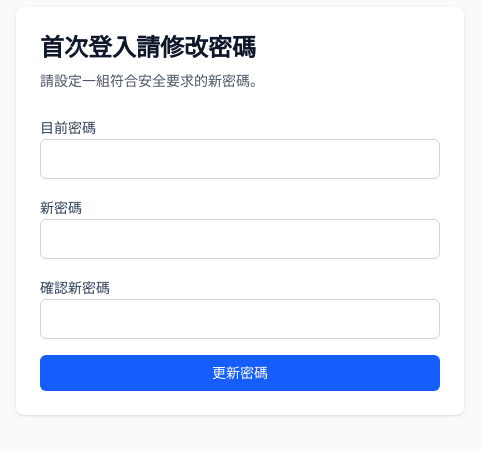
Test case: ChangePasswordPage › shows specific error when current password is invalid
In the password field labelled "目前密碼": (240, 159) [40, 139, 440, 179], type "WrongPass123!"
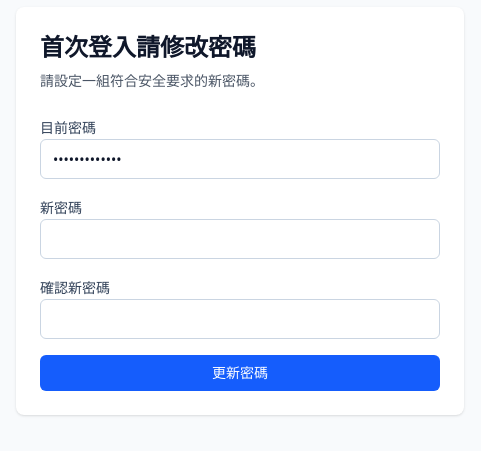
In the password field labelled "新密碼": (240, 239) [40, 219, 440, 259], type "NewPass123!@#"
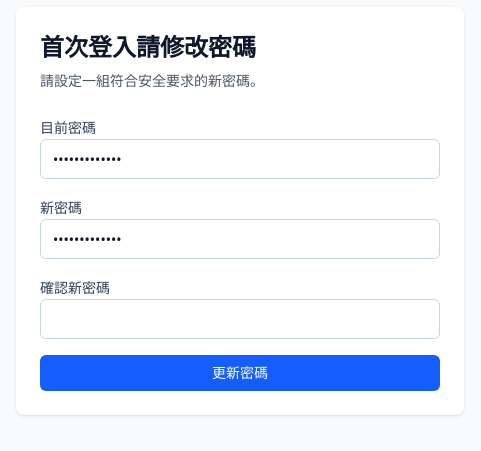
In the password field labelled "確認新密碼": (240, 319) [40, 299, 440, 339], type "NewPass123!@#"
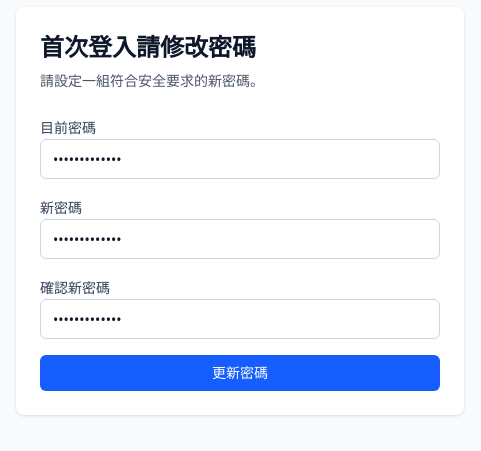
Click the button "更新密碼": click(240, 373) [40, 355, 440, 391]
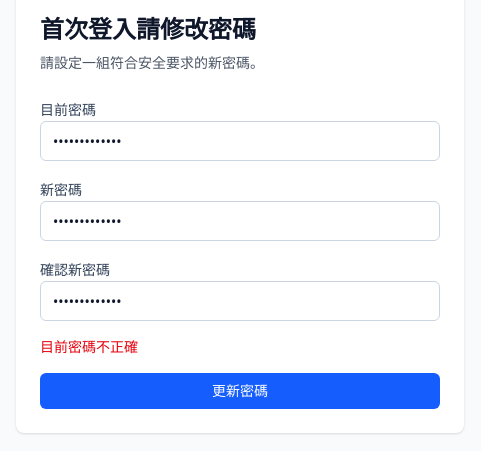
expect the text "目前密碼不正確" is shown: met, box [40, 337, 138, 356]
